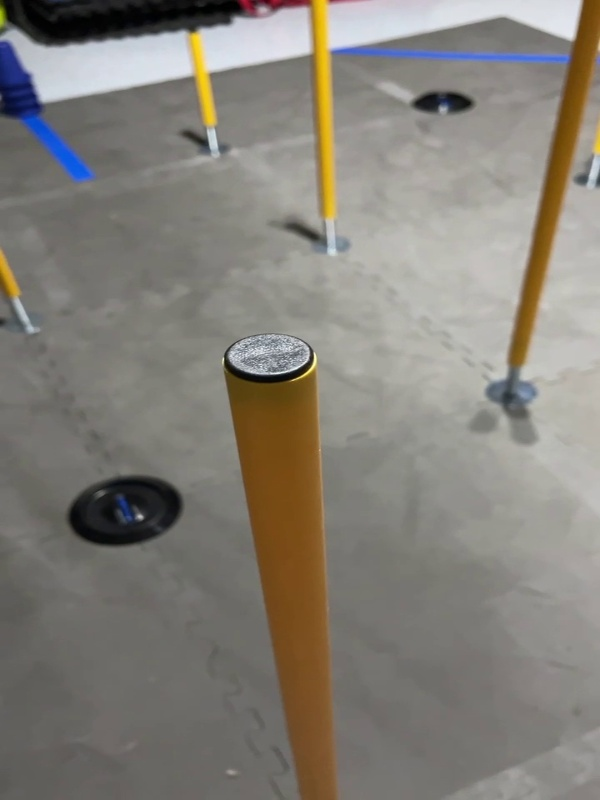top: (209, 327, 324, 390)
